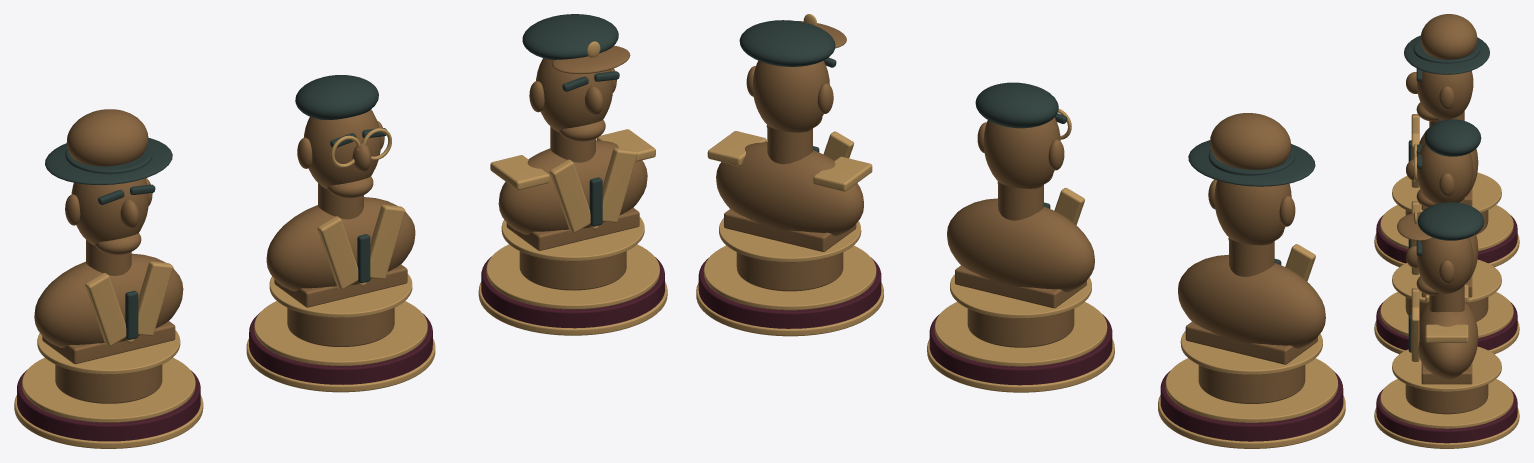
The model's file is CollectibleStatues.fbx.
3 renders of one model, left to right at view 1: azimuth 30°, elevation 25°; view 2: azimuth 150°, elevation 25°; view 3: azimuth 270°, elevation 25°, orthographic. The views are drawn at different scales.
Parts seen in each view (by area): view 1: Detective_Shoulders, Archivist_Shoulders, Commissioner_Shoulders, Detective_UpperRim, Commissioner_UpperRim, Archivist_UpperRim, Detective_Plinth, Archivist_Plinth, Commissioner_Plinth, Detective_FedoraCrown, Archivist_Head, Commissioner_UniformCap (+35 smaller); view 2: Detective_Shoulders, Archivist_Shoulders, Commissioner_Shoulders, Archivist_UpperRim, Commissioner_UpperRim, Detective_UpperRim, Commissioner_Head, Archivist_Head, Detective_Plinth, Commissioner_Plinth, Archivist_Plinth, Detective_Head (+24 smaller); view 3: Commissioner_UpperRim, Commissioner_Shoulders, Commissioner_Plinth, Commissioner_Head, Archivist_Head, Commissioner_BustSeat, Detective_FedoraCrown, Commissioner_UniformCap, Archivist_UpperRim, Detective_Head, Detective_UpperRim, Commissioner_Pedestal (+29 smaller).
Part boxes in pixels (box(x1,y1,x2,y2)): Detective_Shoulders: box(34, 253, 183, 347); Archivist_Shoulders: box(266, 197, 415, 291); Commissioner_Shoulders: box(498, 140, 647, 234); Detective_UpperRim: box(22, 357, 195, 422); Commissioner_UpperRim: box(486, 244, 659, 309); Archivist_UpperRim: box(254, 301, 427, 365); Detective_Plinth: box(17, 370, 200, 441); Archivist_Plinth: box(249, 313, 432, 384); Commissioner_Plinth: box(481, 257, 664, 328); Detective_FedoraCrown: box(66, 109, 148, 166); Archivist_Head: box(303, 109, 380, 189); Commissioner_UniformCap: box(522, 14, 618, 59); Detective_Shoulders: box(1178, 254, 1325, 348); Archivist_Shoulders: box(947, 198, 1094, 292); Commissioner_Shoulders: box(716, 142, 863, 235); Archivist_UpperRim: box(934, 302, 1107, 366); Commissioner_UpperRim: box(703, 245, 876, 310); Detective_UpperRim: box(1165, 358, 1338, 422); Commissioner_Head: box(752, 60, 829, 132); Archivist_Head: box(983, 117, 1060, 188); Detective_Plinth: box(1160, 370, 1343, 441); Commissioner_Plinth: box(698, 257, 881, 328); Archivist_Plinth: box(929, 314, 1112, 385); Detective_Head: box(1214, 180, 1291, 245); Commissioner_UpperRim: box(1380, 379, 1513, 428); Commissioner_Shoulders: box(1418, 302, 1478, 379); Commissioner_Plinth: box(1376, 388, 1517, 443); Commissioner_Head: box(1417, 237, 1473, 293); Archivist_Head: box(1417, 143, 1473, 203); Commissioner_BustSeat: box(1392, 346, 1501, 391); Detective_FedoraCrown: box(1420, 14, 1477, 59); Commissioner_UniformCap: box(1417, 202, 1484, 240); Archivist_UpperRim: box(1380, 292, 1513, 338); Detective_Head: box(1417, 71, 1473, 119); Detective_UpperRim: box(1380, 205, 1513, 251); Commissioner_Pedestal: box(1405, 384, 1488, 414).
Size of the model in its own units: 0.284 by 0.1275 by 0.074.
